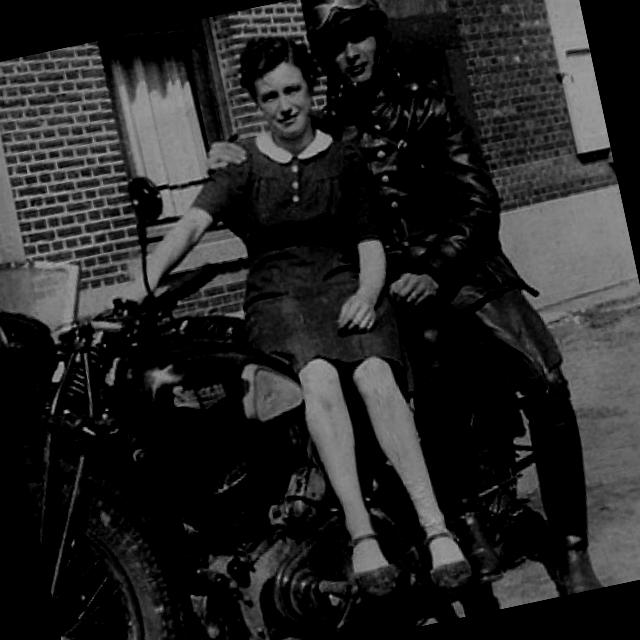Vehicle: (0, 109, 567, 640)
